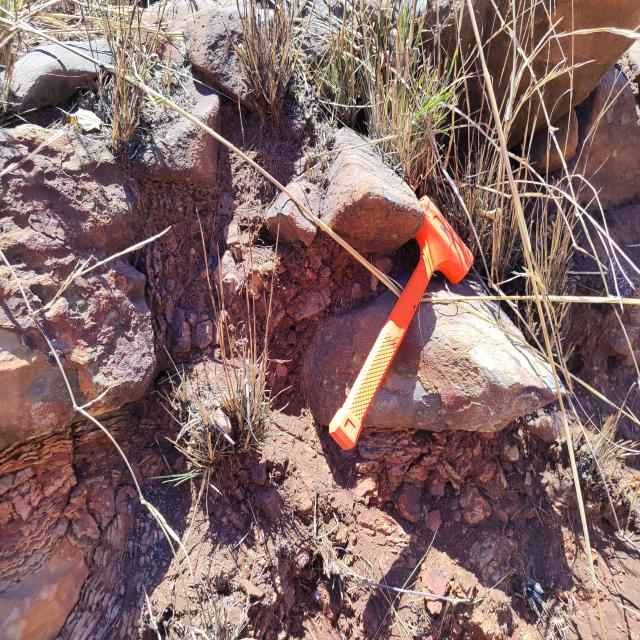Orange_hammer: (328, 193, 474, 451)
